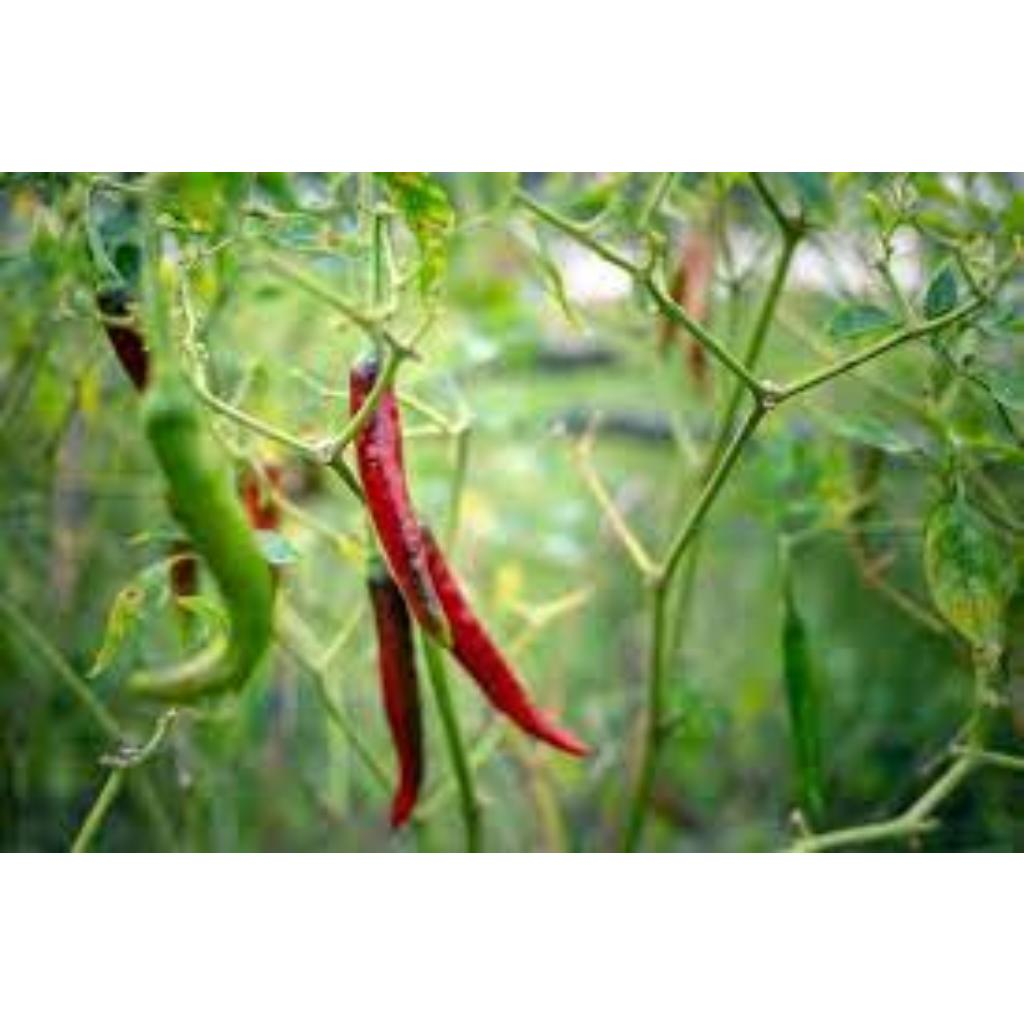chili: (350, 361, 376, 410)
